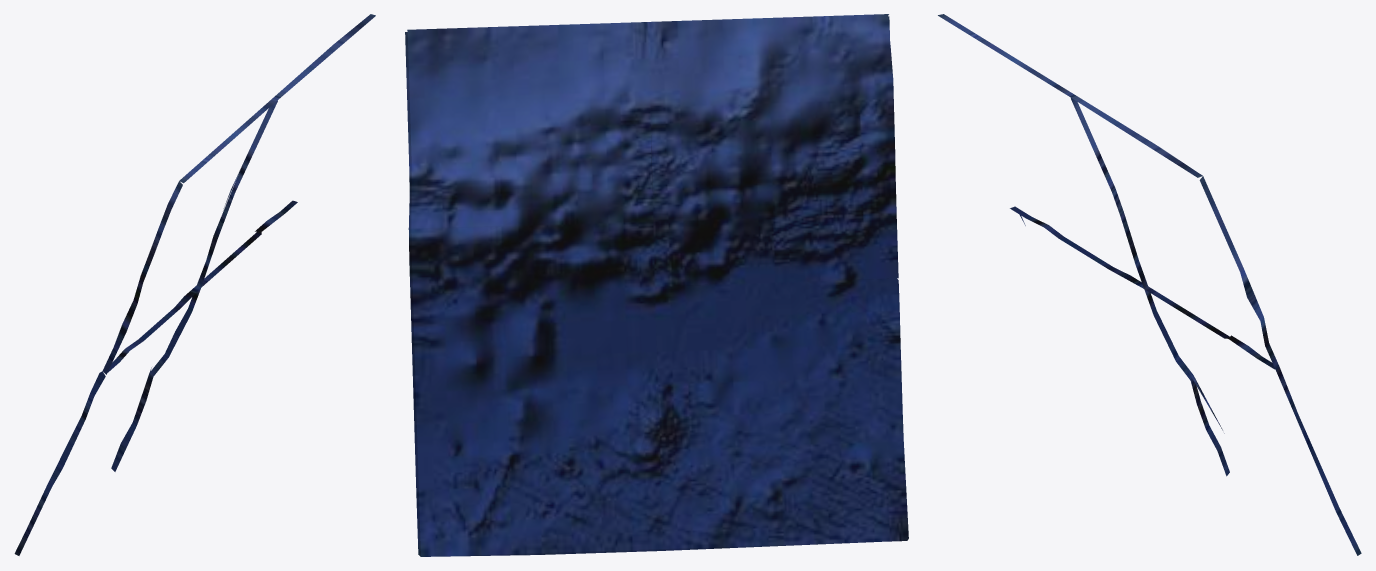
The picture shows the model from 3 angles, left to right: view 1: azimuth 30°, elevation 25°; view 2: azimuth 150°, elevation 25°; view 3: azimuth 270°, elevation 25°; orthographic projection. The views are drawn at different scales.
Size of the model in its own units: 154300 by 146426 by 131872.
Materials: 1 (1 with a texture image).
